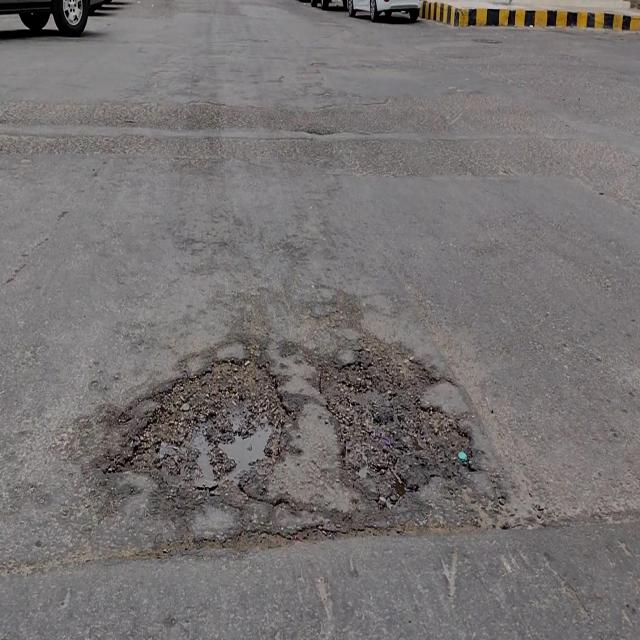Potholes: (316, 329, 469, 508), (123, 357, 285, 496)
